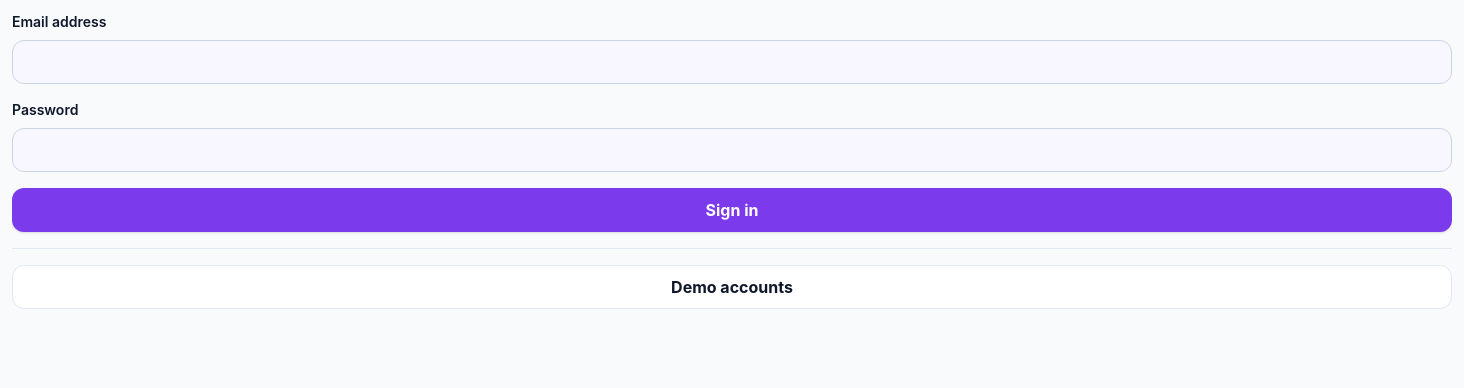
it: LoginForm › shows a generic UI-safe error for invalid credentials
Type "bad@innhub.test" into the field labelled "Email address" at point(732, 62), box [12,40,1452,84]
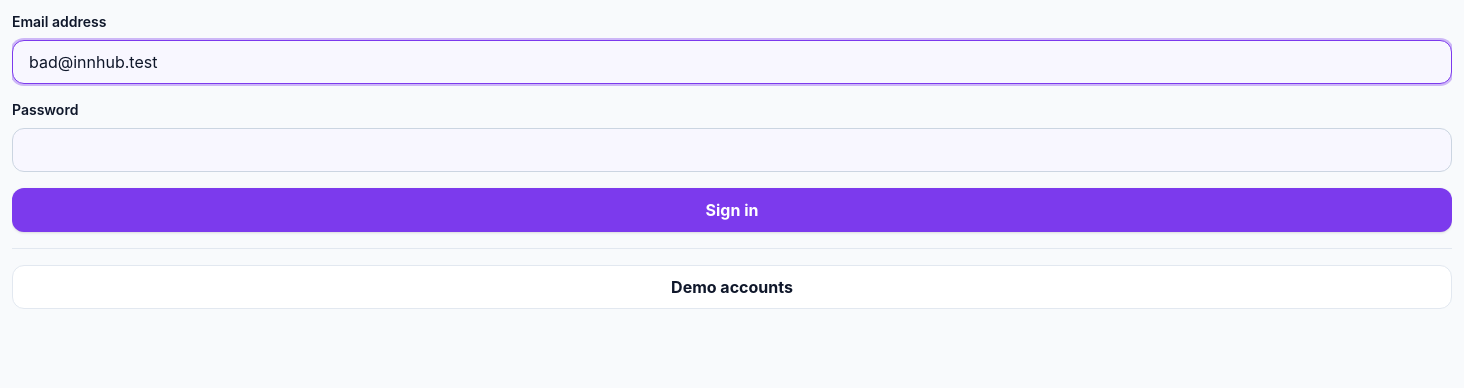
Type "wrong-password" into the password field labelled "Password" at point(732, 150), box [12,128,1452,172]
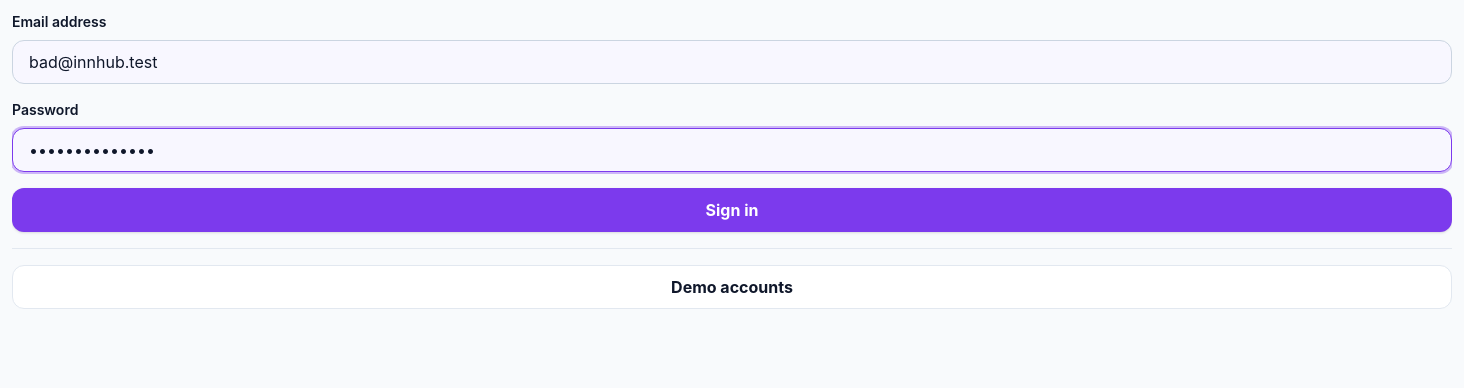
Click the button "Sign in" at point(732, 210), box [12,188,1452,232]
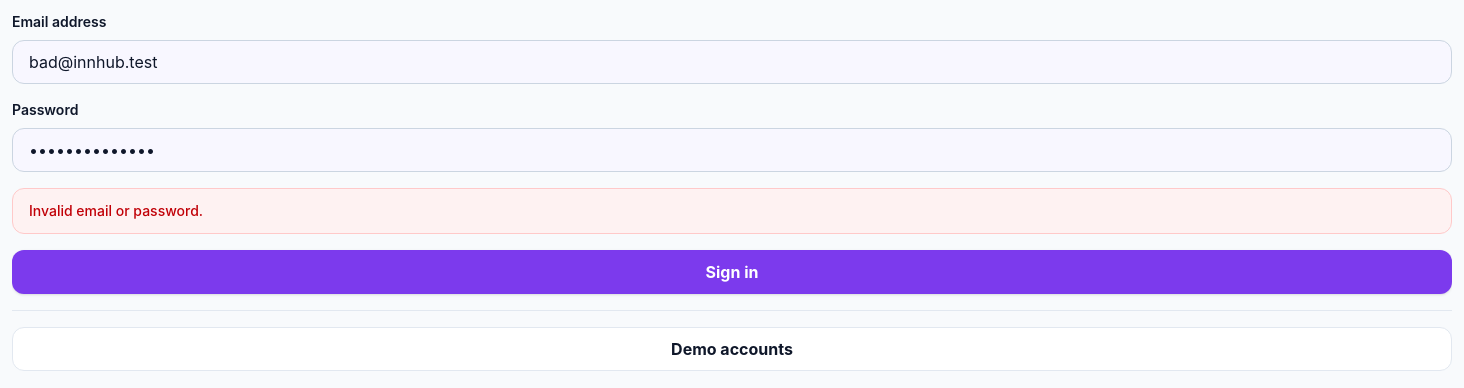
Check: the message reads "Invalid email or password.", box [29,202,203,219]
